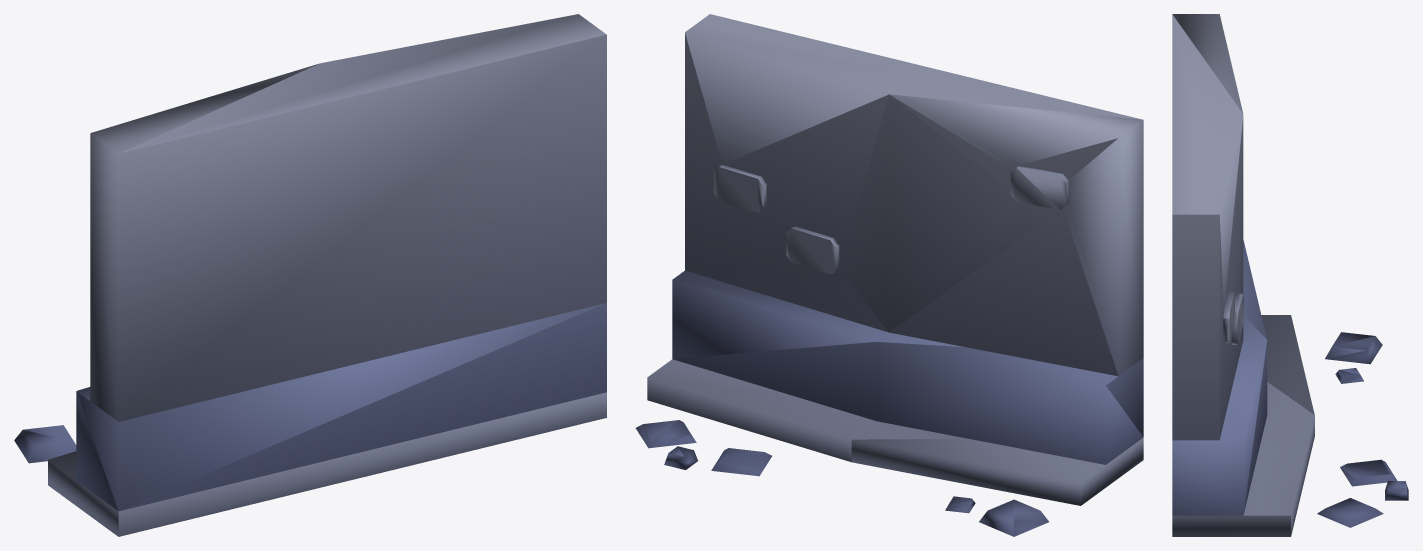
The model's file is template-wall_lev2.glb.
3 views of the same model, side by side, from view 1: azimuth 30°, elevation 25°; view 2: azimuth 150°, elevation 25°; view 3: azimuth 270°, elevation 25° (orthographic). The views are drawn at different scales.
Parts seen in each view (by area): view 1: template-wall_lev2; view 2: template-wall_lev2; view 3: template-wall_lev2.
Part boxes in pixels (<box>): template-wall_lev2: <box>14,14,606,536</box>; template-wall_lev2: <box>635,14,1143,536</box>; template-wall_lev2: <box>1172,14,1408,536</box>.
Bounding box in the file's own units: 4 × 3 × 1.99.
Materials: 1 (1 with a texture image).
